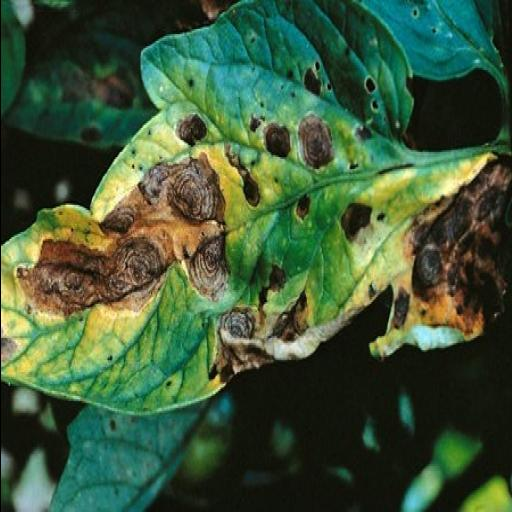Early Blight: (0, 0, 512, 417)
